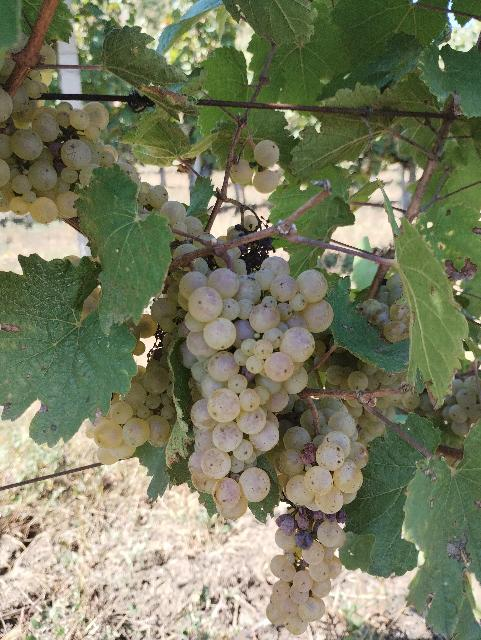grapes: (178, 256, 334, 519), (266, 398, 369, 635), (92, 361, 175, 464), (101, 448, 105, 451)
